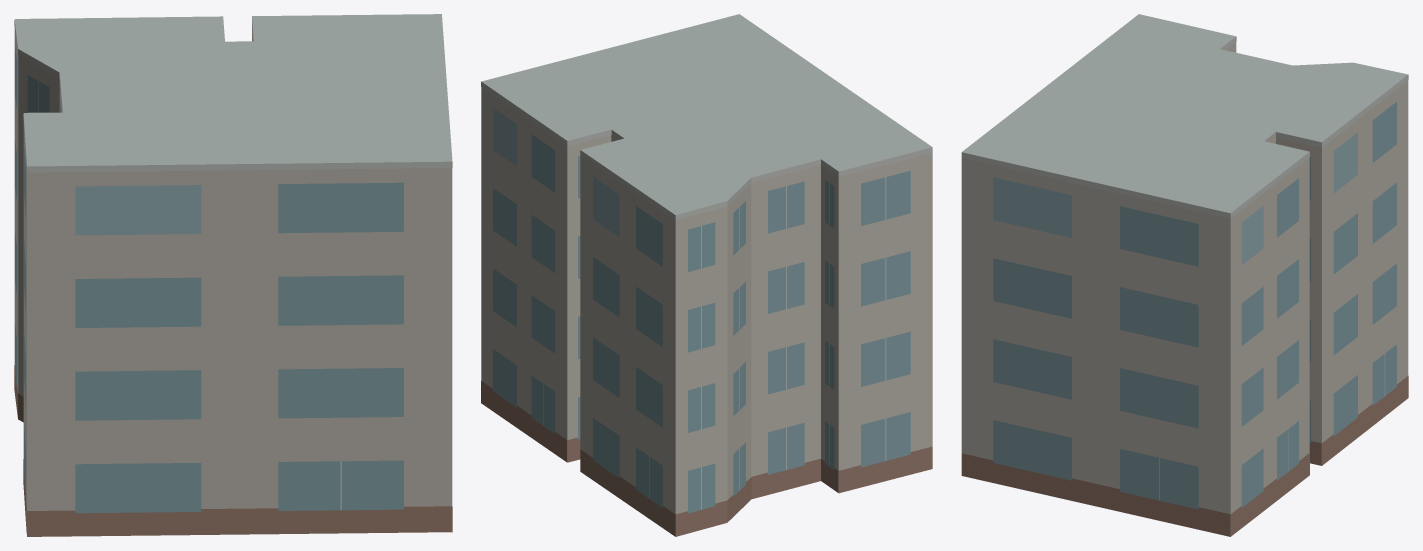
Rendered from survey-upis-32684280.glb.
3 renders of one model, left to right at view 1: azimuth 30°, elevation 25°; view 2: azimuth 150°, elevation 25°; view 3: azimuth 270°, elevation 25°, orthographic. The views are drawn at different scales.
Visible parts, largest first — view 1: survey-upis-32684280.tmp; view 2: survey-upis-32684280.tmp; view 3: survey-upis-32684280.tmp.
Boxes of the visible parts, x1,y1,x2,y2 form: survey-upis-32684280.tmp: (14, 14, 452, 536); survey-upis-32684280.tmp: (481, 14, 932, 536); survey-upis-32684280.tmp: (961, 14, 1408, 536).
Size of the model in its own units: 19.16 by 14.5 by 18.15.
